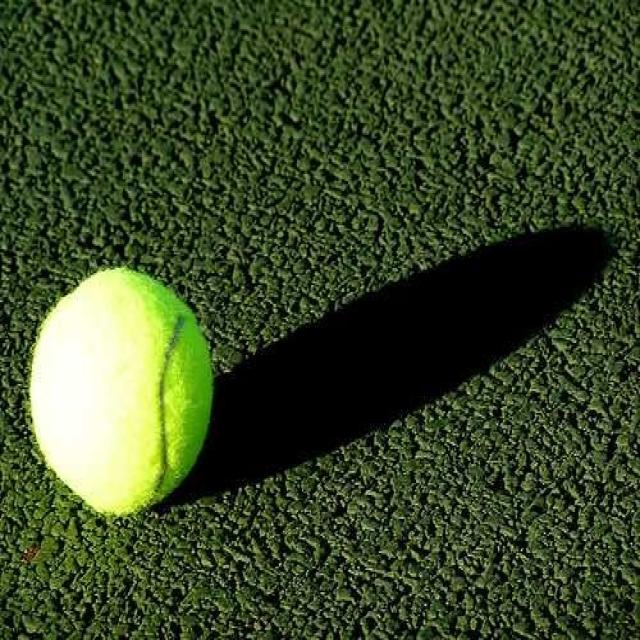Tennis_Ball: (28, 272, 219, 518)
